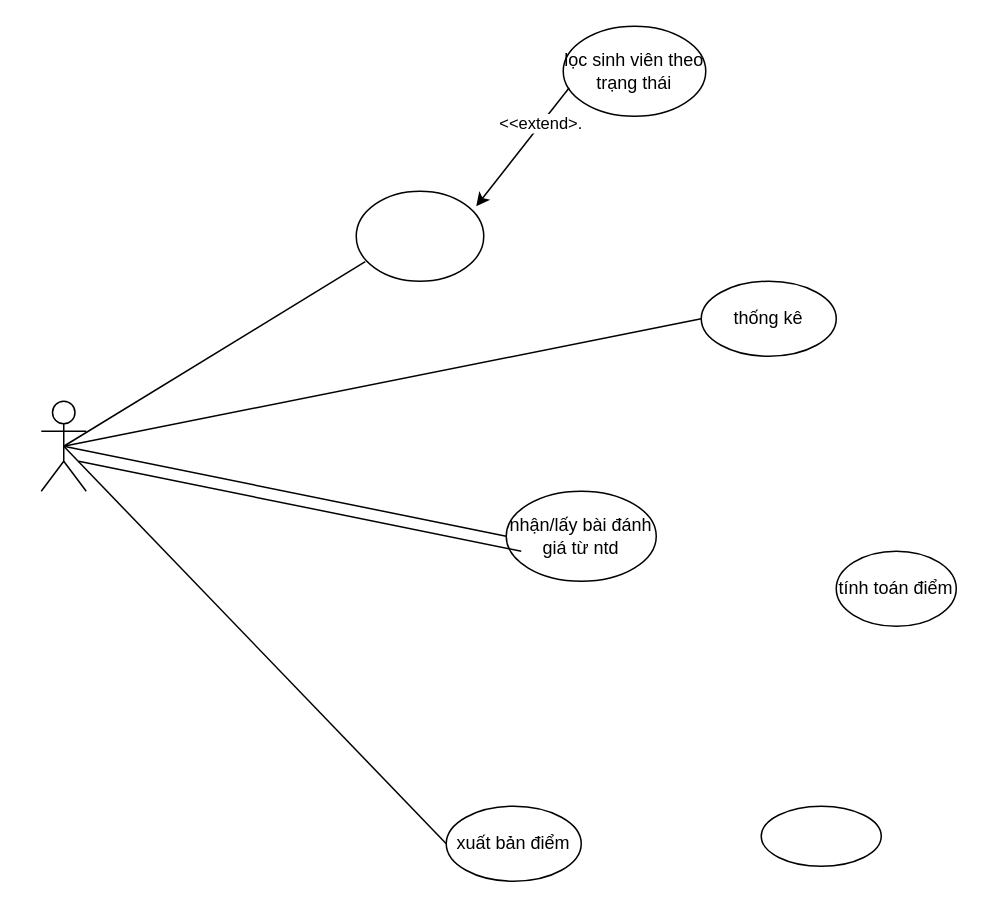
This 983x908 diagram has some shape labels left out. Here are the shapes that lost their labels. From the top down, the box of each, then its label:
(355, 190, 484, 281): Quản lý sinh viên
(40, 400, 86, 491): Lecturers
